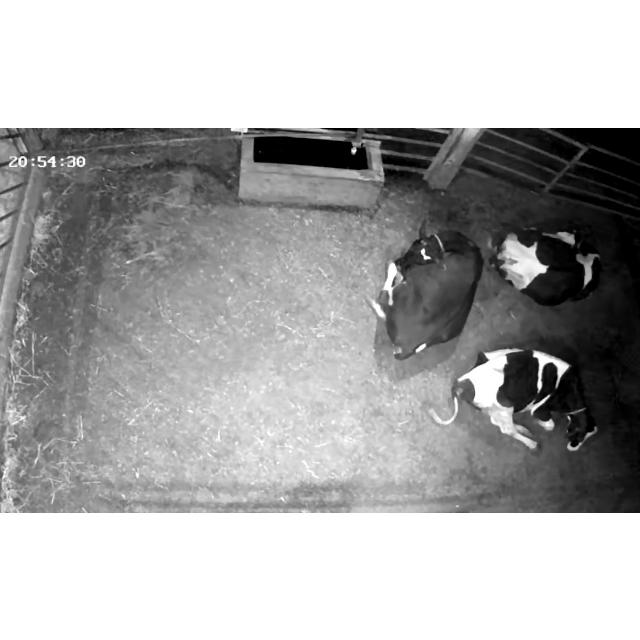lay: (428, 336, 606, 459), (361, 216, 485, 356), (490, 211, 604, 305)
